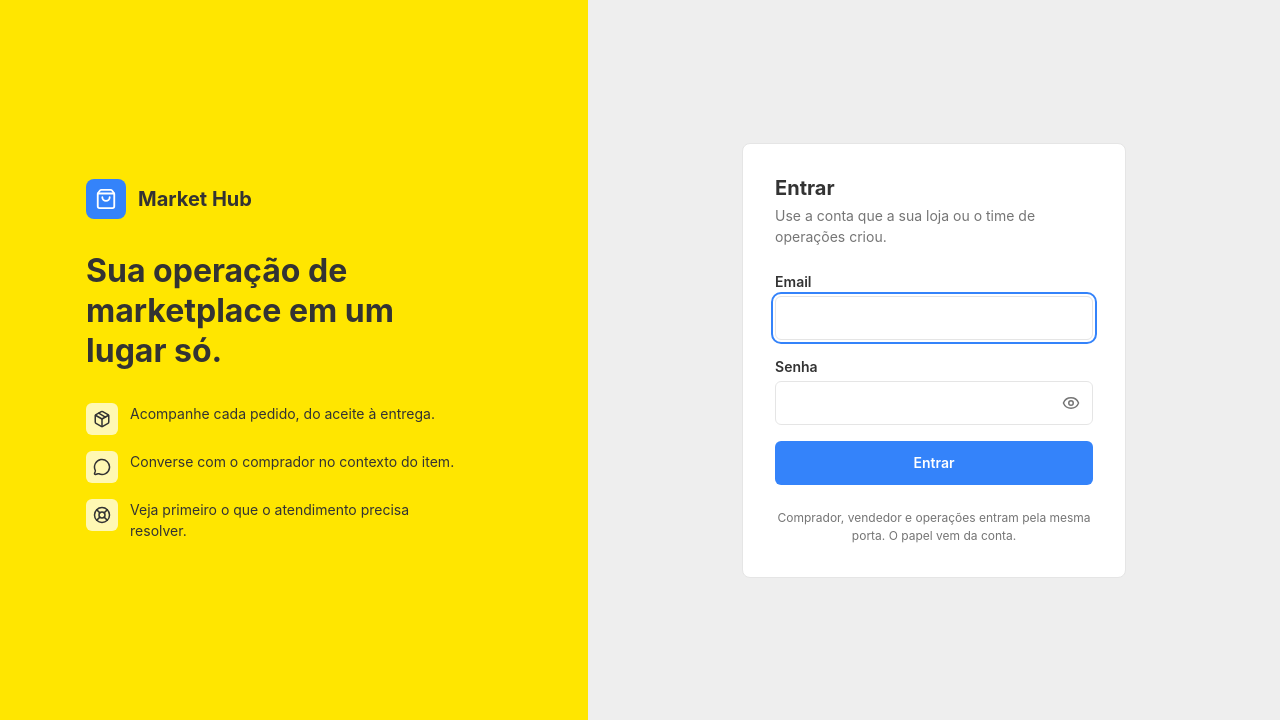
LoginPage › does not leak the raw API message for an unexpected failure
Step 1. Type "seller@marketplace.test" into the field labelled "Email" → (934, 318), box 775,296 -> 1093,340
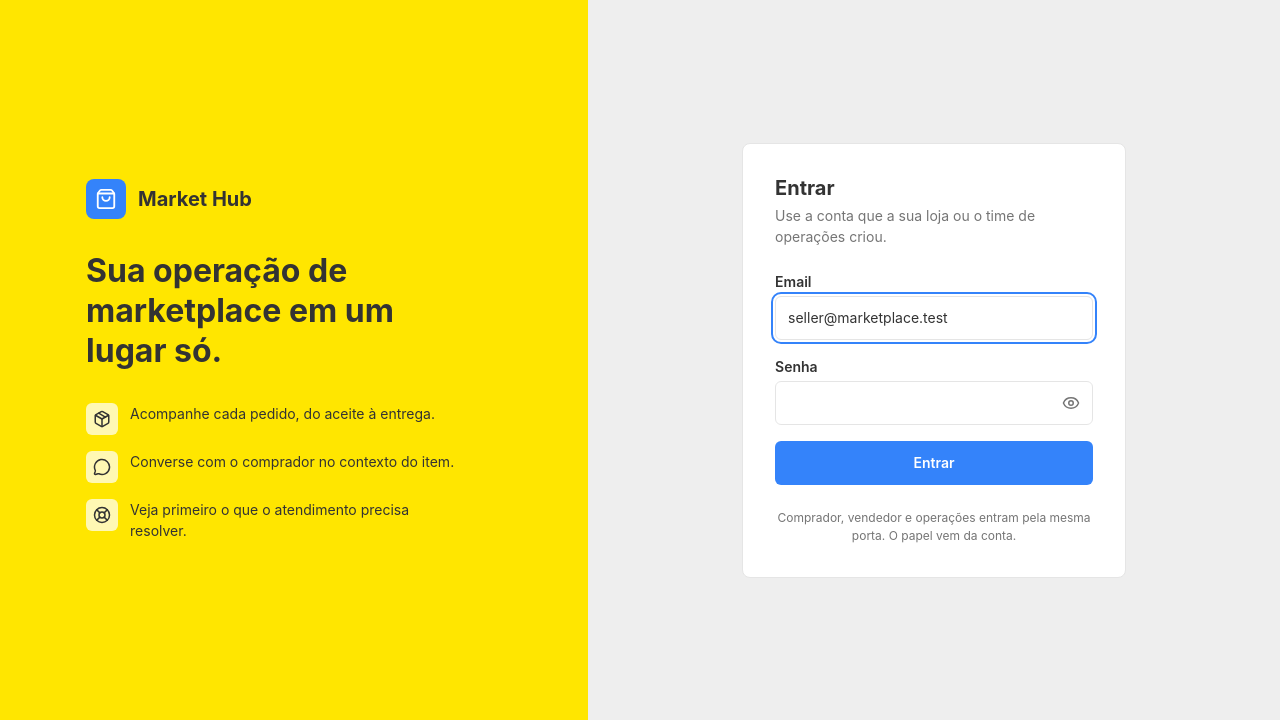
Step 2. Type "secret" into the password field labelled "Senha" → (934, 402), box 775,380 -> 1093,424
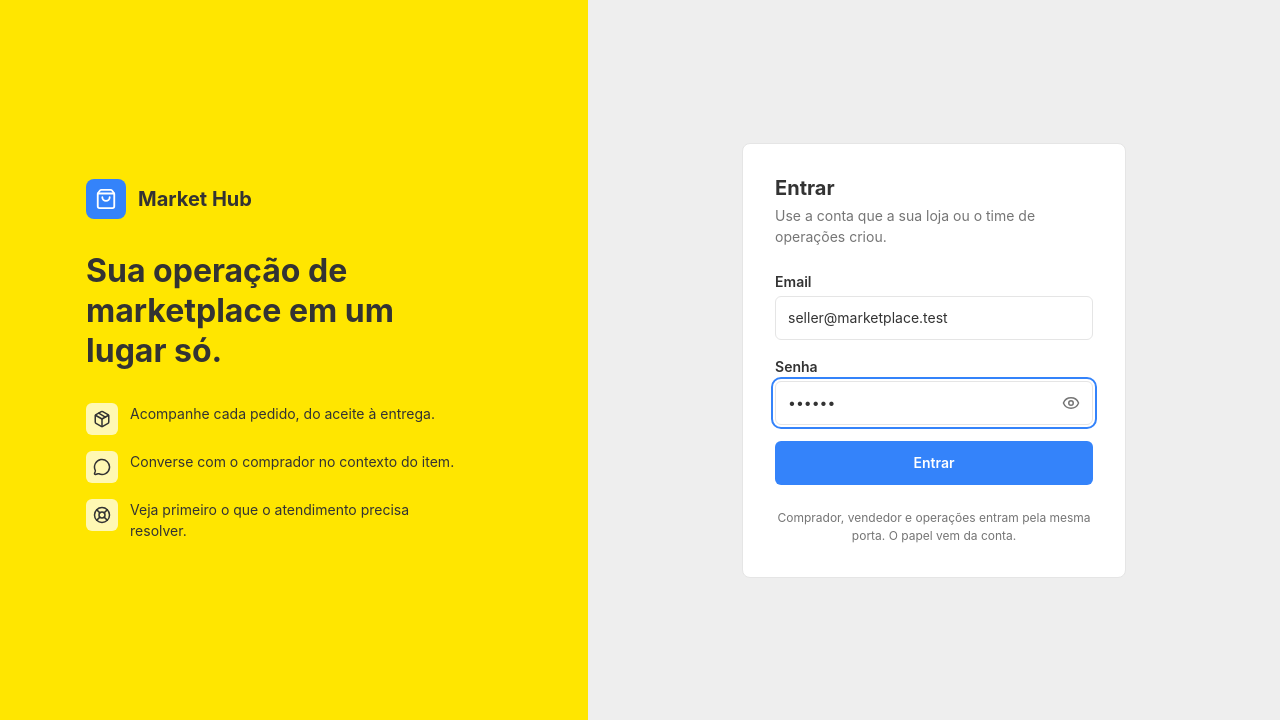
Step 3. Click the button "Entrar" → (934, 462), box 775,440 -> 1093,484
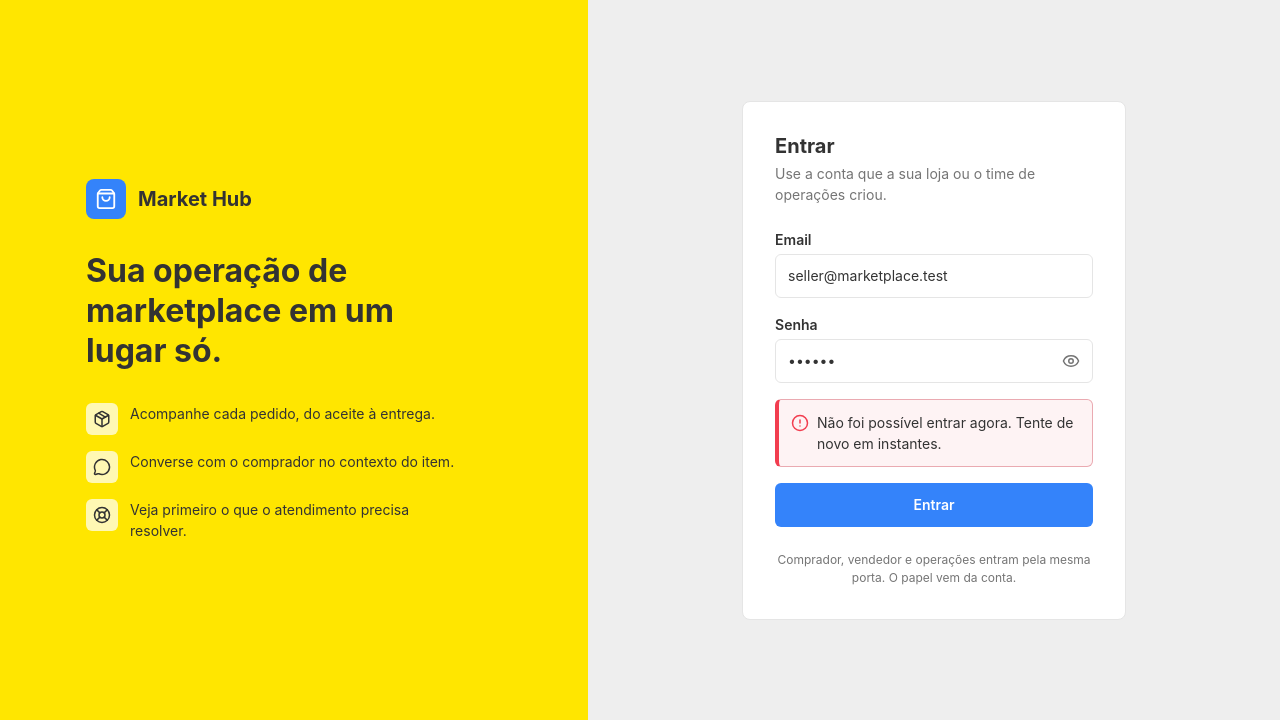
Expected: the message does not show "valid email address", 775,398 -> 1093,466
Expected: the message shows "Não foi possível entrar agora.", 817,414 -> 1073,452
